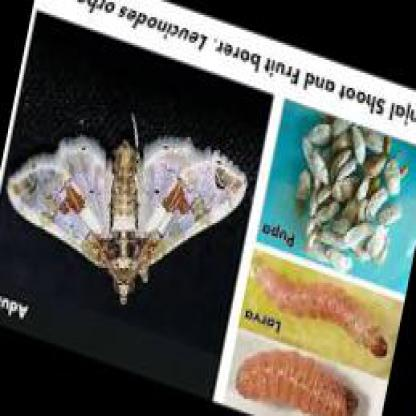leucinodes: (6, 133, 246, 304)
